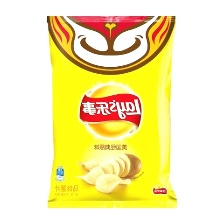snack: (39, 7, 187, 213)
